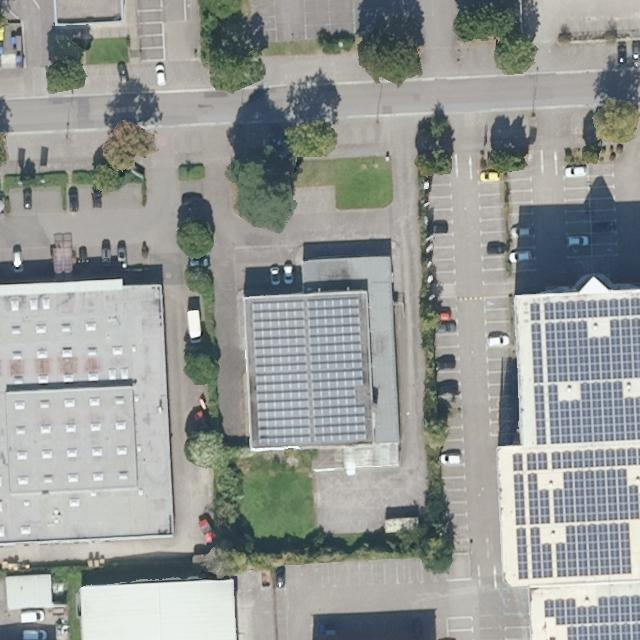PV: (511, 299, 639, 582), (249, 290, 369, 448), (543, 593, 639, 639)
